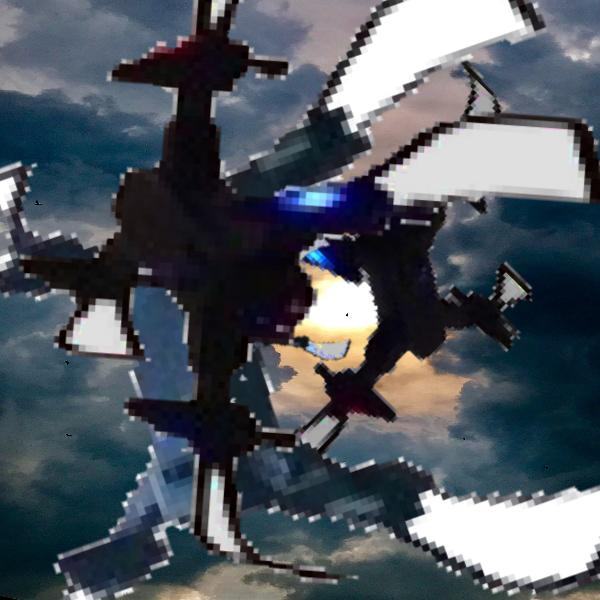drone: (123, 4, 569, 450), (208, 237, 355, 384)
